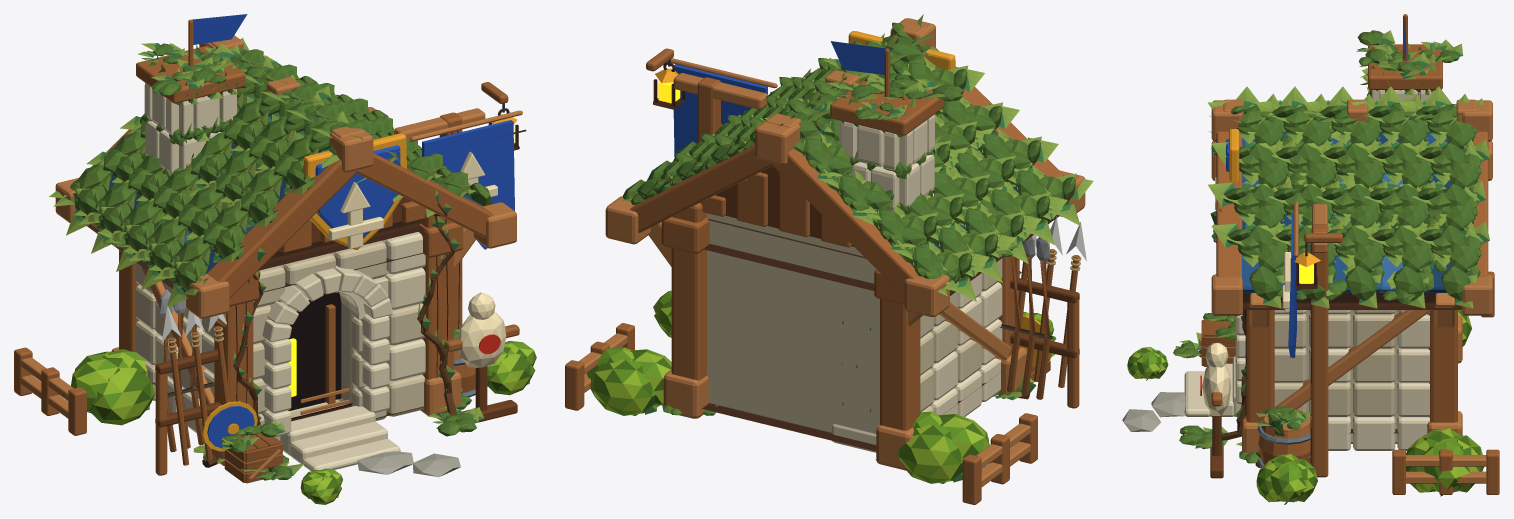
Rendered from barracks.glb.
3 renders of one model, left to right at view 1: azimuth 30°, elevation 25°; view 2: azimuth 150°, elevation 25°; view 3: azimuth 270°, elevation 25°, orthographic. The views are drawn at different scales.
Parts seen in each view (by area): view 1: Runtime surface 011, Runtime surface 003, Runtime surface 001, Runtime surface 012, Runtime surface 002, Runtime surface 010, Runtime surface 005, Runtime surface 016, Runtime surface 020, Runtime surface 025, Runtime surface 033, Runtime surface 008 (+12 smaller); view 2: Runtime surface 003, Runtime surface 012, Runtime surface 011, Runtime surface 002, Runtime surface 001, Runtime surface 010, Runtime surface 025, Runtime surface 008, Runtime surface 024, Runtime surface 026, Runtime surface 015, Runtime surface 013 (+7 smaller); view 3: Runtime surface 011, Runtime surface 003, Runtime surface 002, Runtime surface 010, Runtime surface 001, Runtime surface 012, Runtime surface 033, Runtime surface 025, Runtime surface 008, Runtime surface 026, Runtime surface 032, Runtime surface 024 (+13 smaller).
Boxes of the visible parts, box(x1,y1,x2,y2) form: Runtime surface 011: box(70, 49, 492, 452); Runtime surface 003: box(14, 19, 519, 475); Runtime surface 001: box(144, 83, 425, 471); Runtime surface 012: box(135, 239, 425, 440); Runtime surface 002: box(21, 35, 522, 479); Runtime surface 010: box(49, 37, 529, 496); Runtime surface 005: box(207, 120, 514, 448); Runtime surface 016: box(328, 151, 506, 367); Runtime surface 020: box(288, 292, 341, 410); Runtime surface 025: box(72, 343, 533, 504); Runtime surface 033: box(103, 43, 476, 480); Runtime surface 008: box(87, 108, 519, 421); Runtime surface 003: box(565, 46, 1079, 504); Runtime surface 012: box(707, 213, 1002, 433); Runtime surface 011: box(623, 22, 1075, 412); Runtime surface 002: box(578, 18, 1085, 486); Runtime surface 001: box(831, 114, 1002, 452); Runtime surface 010: box(621, 14, 1093, 483); Runtime surface 025: box(586, 298, 1053, 483); Runtime surface 008: box(653, 62, 1059, 451); Runtime surface 024: box(592, 290, 1053, 483); Runtime surface 026: box(589, 299, 1053, 483); Runtime surface 015: box(715, 166, 1079, 358); Runtime surface 013: box(1007, 255, 1050, 399); Runtime surface 011: box(1203, 90, 1481, 435); Runtime surface 003: box(1211, 14, 1499, 494); Runtime surface 002: box(1199, 99, 1492, 483); Runtime surface 010: box(1147, 41, 1489, 503); Runtime surface 001: box(1184, 90, 1434, 450); Runtime surface 012: box(1274, 310, 1429, 443); Runtime surface 033: box(1173, 30, 1459, 463); Runtime surface 025: box(1127, 312, 1482, 502); Runtime surface 008: box(1243, 243, 1461, 464); Runtime surface 026: box(1127, 310, 1483, 501); Runtime surface 032: box(1174, 30, 1463, 457); Runtime surface 024: box(1129, 310, 1483, 501).
Bounding box in the file's own units: 4.58 × 4.1 × 3.77.
Materials: 34 (8 with a texture image).
